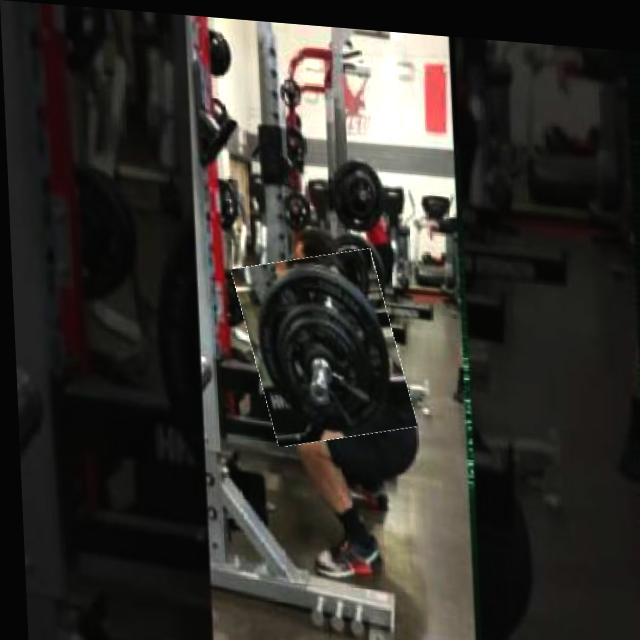barbell: (238, 242, 407, 445)
